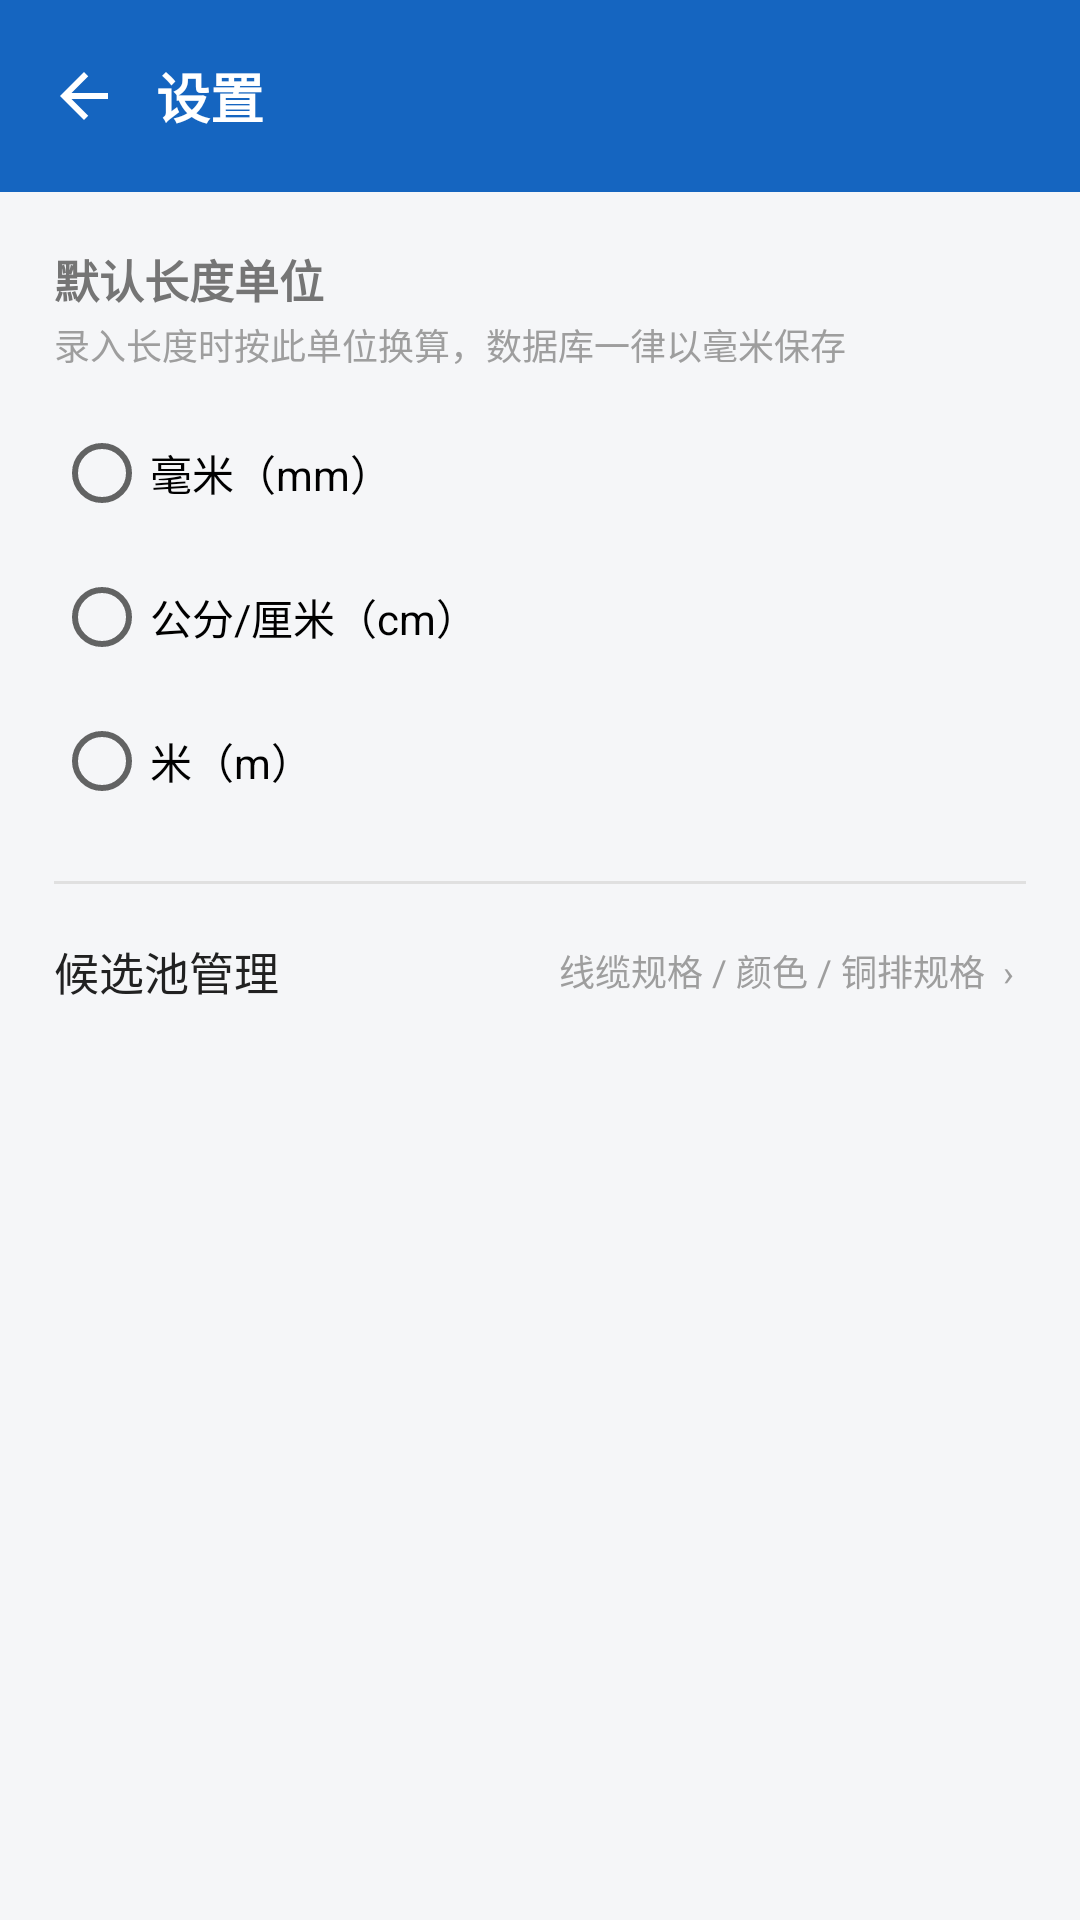

Icons on this 1080*1920 Android screen, each with the point to tap as point (x, y):
返回: point (84, 96)
